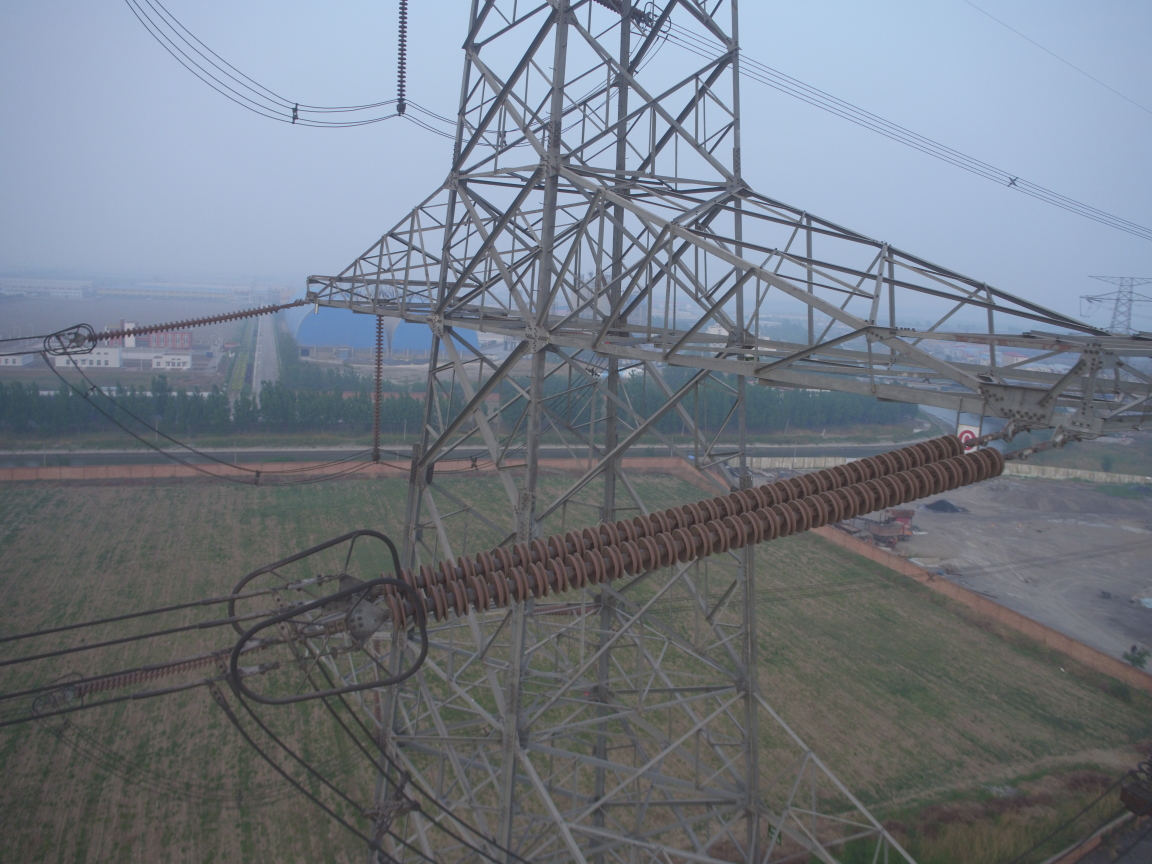insulator: (369, 431, 1025, 633)
